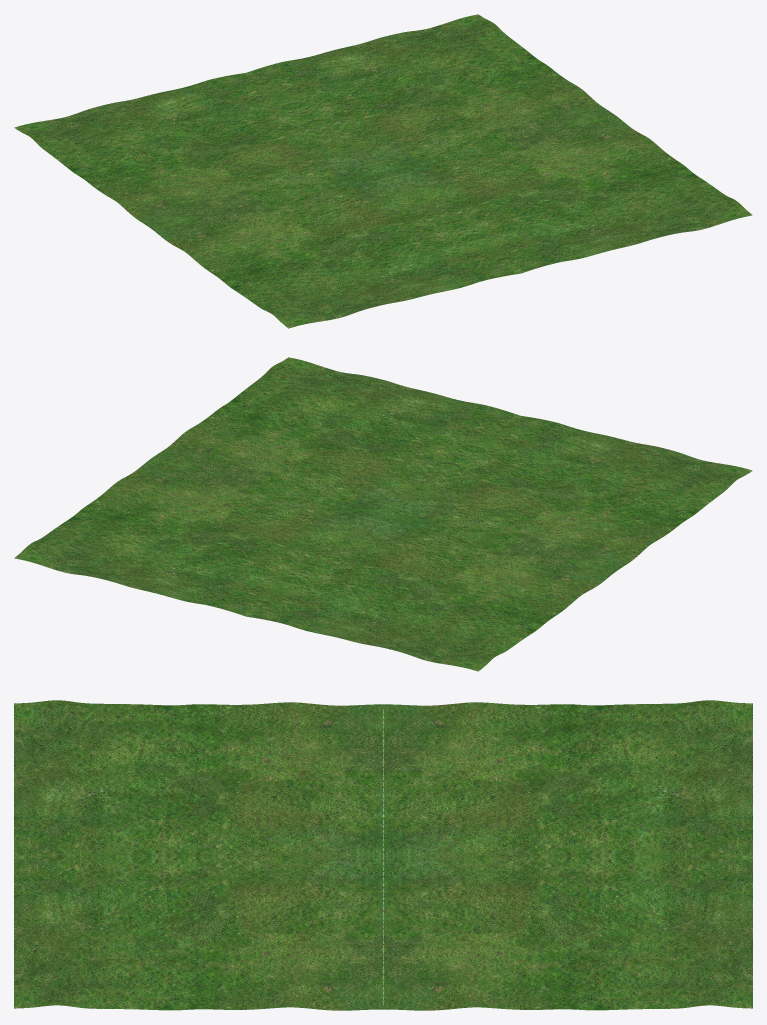
The model's file is Pasto.obj.
3 views of the same model, one above another, from view 1: azimuth 30°, elevation 25°; view 2: azimuth 150°, elevation 25°; view 3: azimuth 270°, elevation 25° (orthographic). The views are drawn at different scales.
Parts seen in each view (by area): view 1: FBXASC053; view 2: FBXASC053; view 3: FBXASC053.
Part boxes in pixels (box(x1,y1,x2,y2)): FBXASC053: box(14, 14, 752, 328); FBXASC053: box(14, 357, 752, 671); FBXASC053: box(14, 700, 752, 1010).
Bounding box in the file's own units: 10.69 × 0.1403 × 10.94.
1 material, 1 textured.
